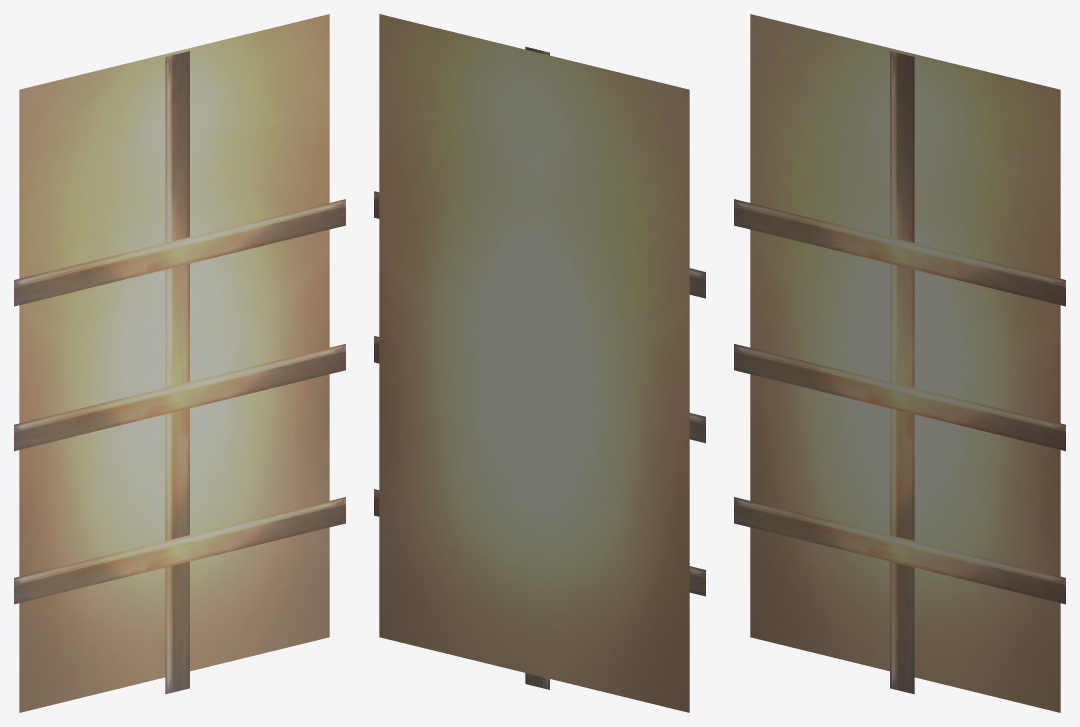
File: unity_dungeon_window01.FBX
3 views of the same model, side by side, from view 1: azimuth 30°, elevation 25°; view 2: azimuth 150°, elevation 25°; view 3: azimuth 330°, elevation 25° (orthographic).
Parts seen in each view (by area): view 1: unity_dungeon_window01; view 2: unity_dungeon_window01; view 3: unity_dungeon_window01.
Part boxes in pixels (bbox=[...]): unity_dungeon_window01: bbox=[14, 14, 345, 712]; unity_dungeon_window01: bbox=[374, 14, 705, 712]; unity_dungeon_window01: bbox=[734, 14, 1065, 712].
Size of the model in its own units: 2.5 by 4.58 by 0.0707.
